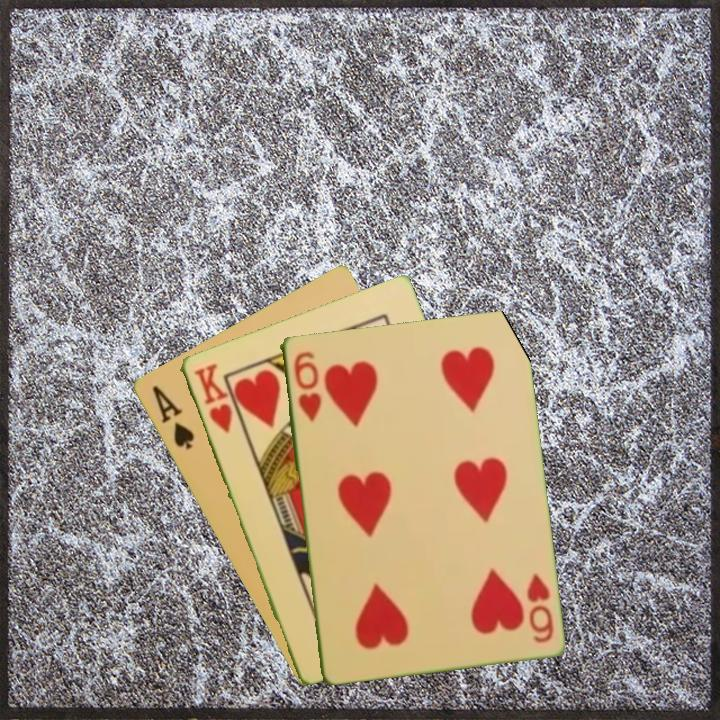6h: (290, 347, 324, 424), (523, 569, 557, 646)
As: (147, 381, 197, 453)
Kh: (189, 360, 235, 435)
